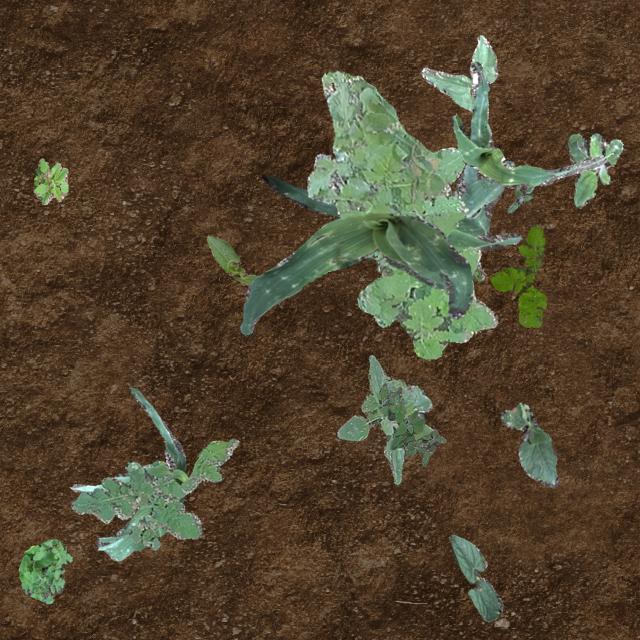crop: (260, 160, 520, 280), (238, 212, 472, 334), (70, 387, 188, 560), (450, 61, 604, 188), (336, 354, 434, 484), (419, 34, 496, 110), (500, 402, 558, 486), (448, 534, 502, 620), (206, 233, 256, 284)
weed: (306, 70, 496, 358), (70, 438, 238, 548), (490, 222, 546, 326), (378, 382, 444, 464), (566, 132, 622, 206), (18, 538, 72, 602), (32, 158, 68, 204), (506, 184, 532, 212)
